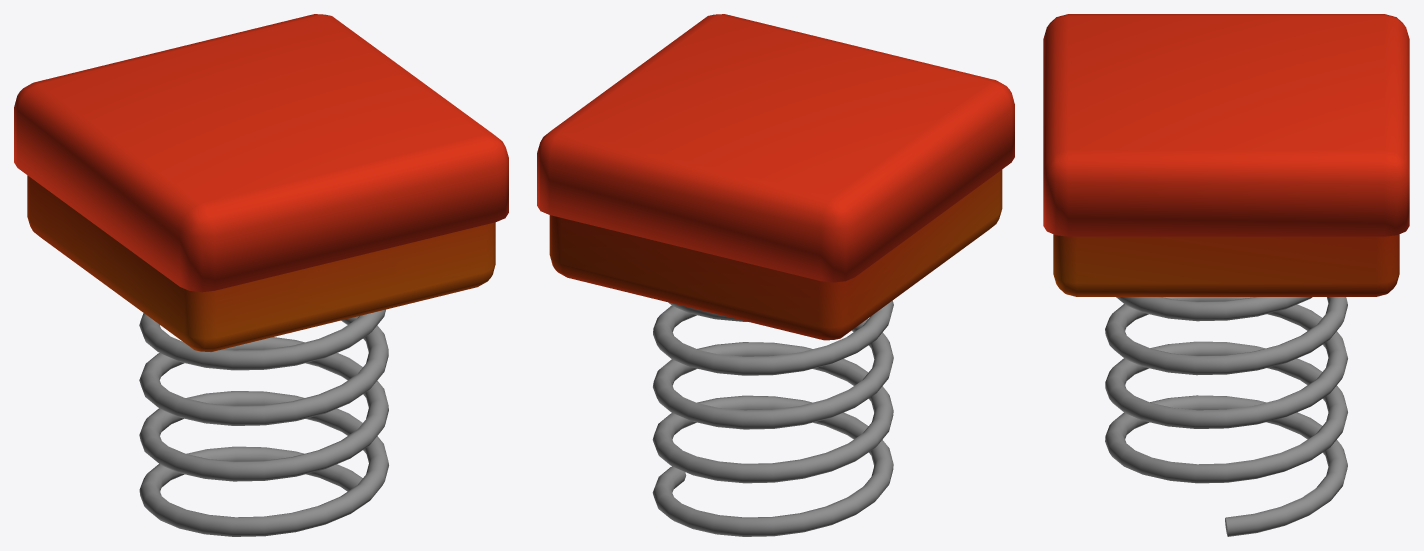
Rendered from trap_platformspringred.glb.
The picture shows the model from 3 angles, left to right: view 1: azimuth 30°, elevation 25°; view 2: azimuth 150°, elevation 25°; view 3: azimuth 270°, elevation 25°; orthographic projection. The views are drawn at different scales.
Parts seen in each view (by area): view 1: Spiral.002_visual; view 2: Spiral.002_visual; view 3: Spiral.002_visual.
Part boxes in pixels (box(x1,y1,x2,y2)): Spiral.002_visual: box(14, 14, 508, 536); Spiral.002_visual: box(537, 14, 1014, 536); Spiral.002_visual: box(1043, 14, 1409, 536).
Size of what is drawn, in the model's own units: 1.42 by 1.72 by 1.42.
1 material, 1 textured.
